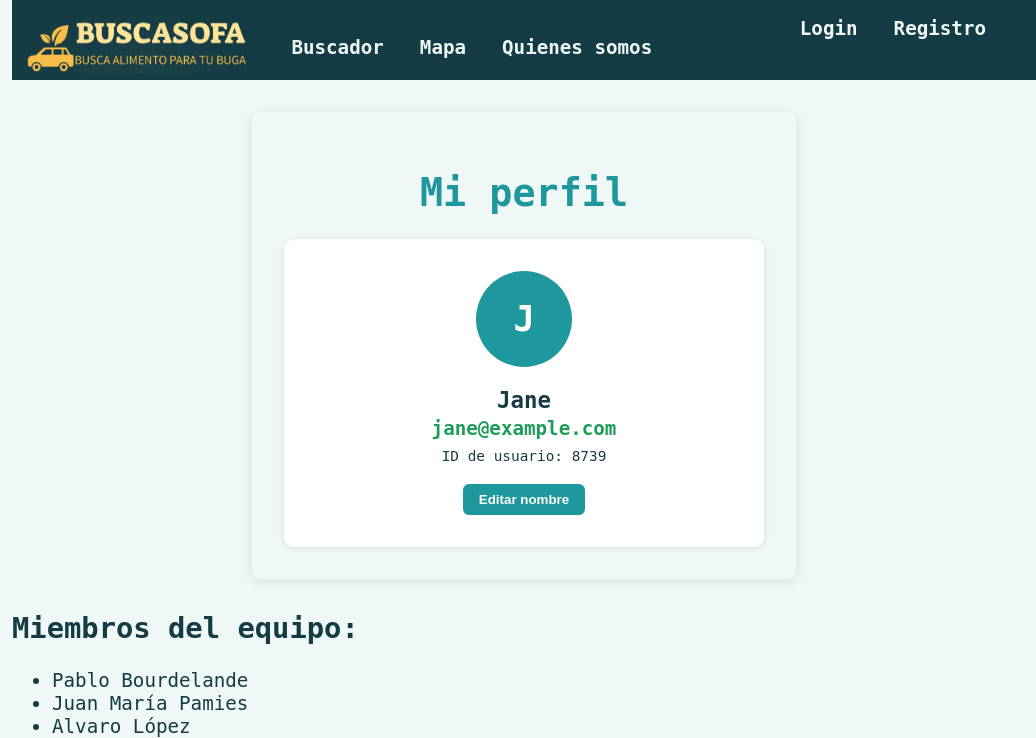
Scenario: Página de perfil de usuario › permite editar y guardar el nombre mostrado del usuario
This screenshot has width=1036, height=738.
Click the button with test id "profile-edit-btn" at (524, 500), box [463,484,585,515]
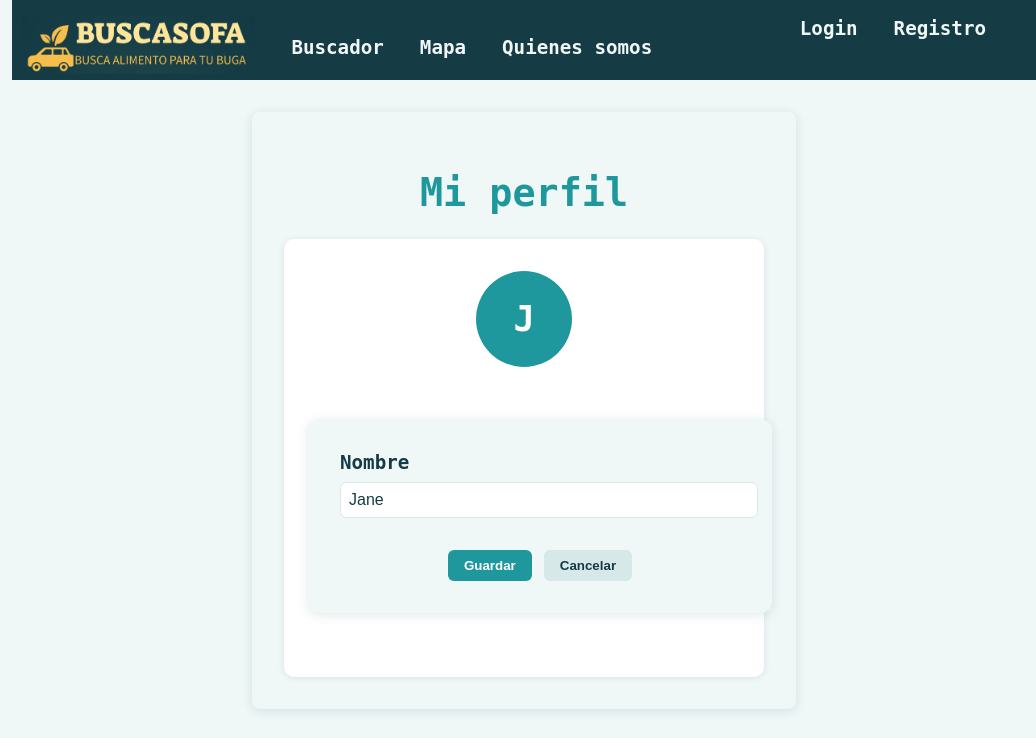
expect the field with test id "profile-name-input" holds "Jane": met
Replace the text in the field with test id "profile-name-input" with "Juana Pérez" at (549, 500), box [340,482,758,518]
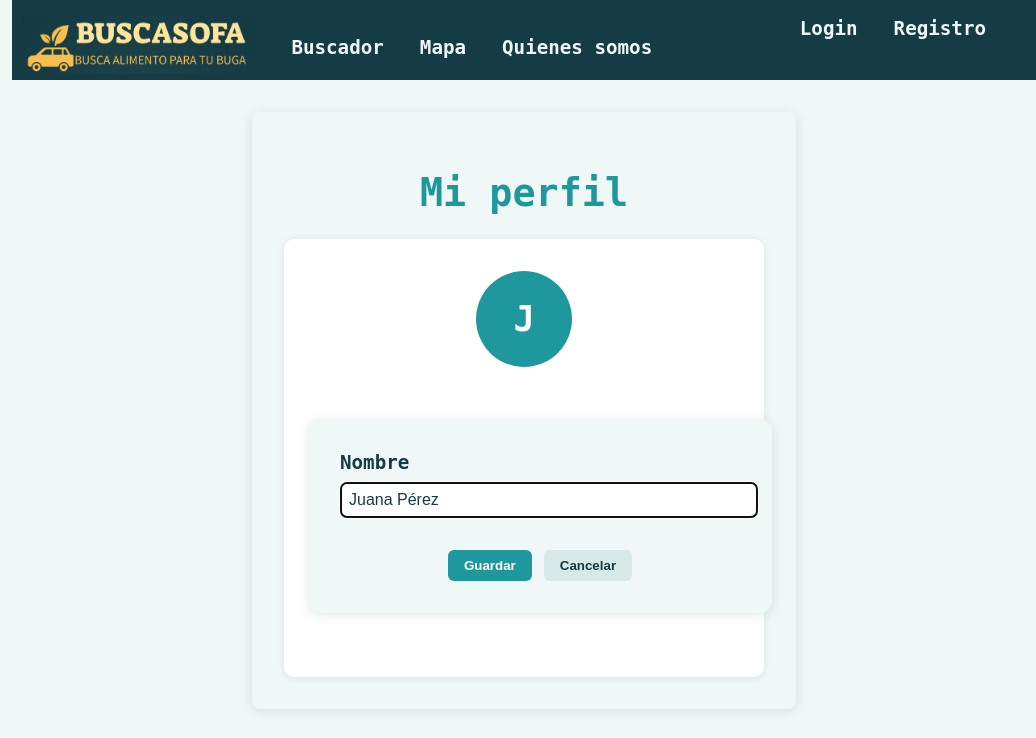
Click the button with test id "profile-save-btn" at (490, 566), box [448,550,532,581]
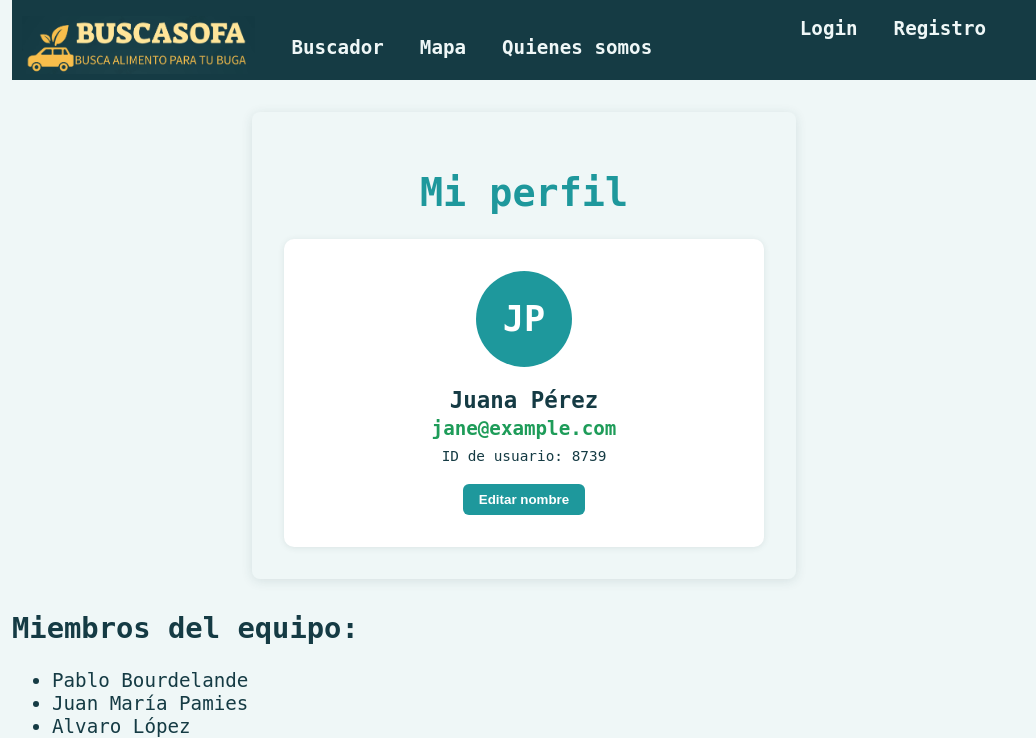
expect the heading with test id "profile-name" reads "Juana Pérez": met, box [450,387,598,413]
expect the text with test id "profile-avatar" reads "JP": met, box [476,271,572,367]
expect the label with test id "profile-name-input" is gone: met
